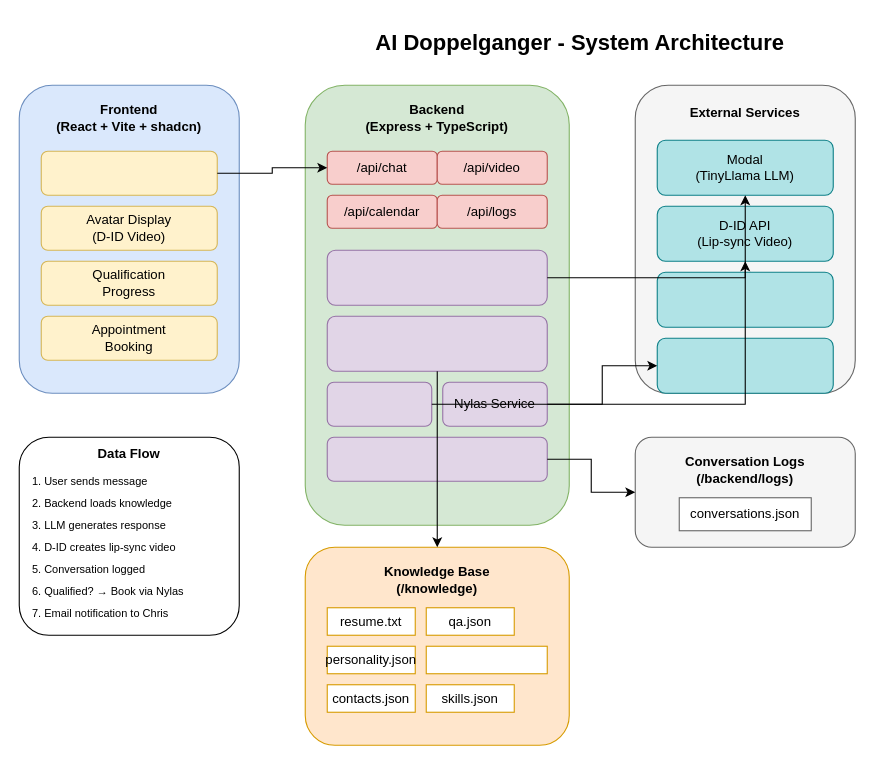
Image size: 875x765. Some labels were removed from this diagram. Here are the shapes that lost their labels. From the top down, the box of each, then its label:
(40, 150, 217, 195): Chat Interface
(326, 249, 547, 305): LLM Service (System Prompt + Q&A)
(656, 271, 833, 327): ElevenLabs (Voice - via D-ID)
(326, 315, 547, 371): Knowledge Service (Resume, Skills, Contacts)
(656, 337, 833, 393): Nylas API (Gmail/Calendar)
(326, 381, 432, 426): D-ID Service
(326, 436, 547, 481): Conversation Log Service
(425, 645, 547, 674): hard_boundaries.json
